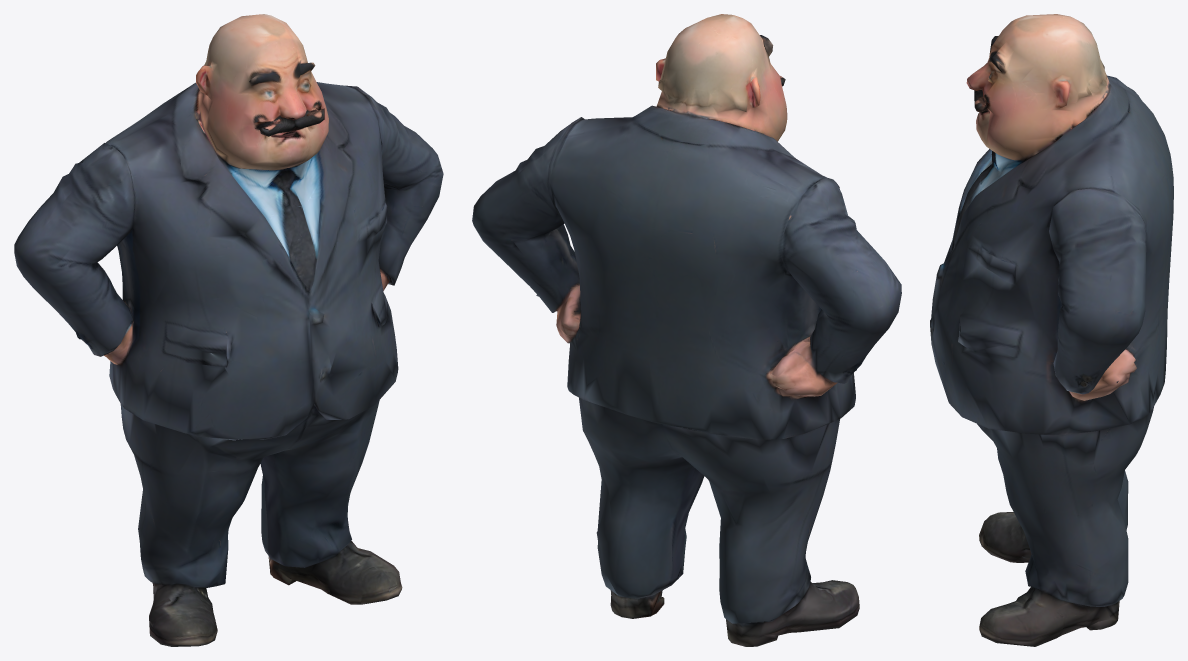
Rendered from morfleps-completo.glb.
3 renders of one model, left to right at view 1: azimuth 30°, elevation 25°; view 2: azimuth 150°, elevation 25°; view 3: azimuth 270°, elevation 25°, orthographic.
Bounding box in the file's own units: 1.48 × 2 × 0.7707.
1 material, 1 textured.
